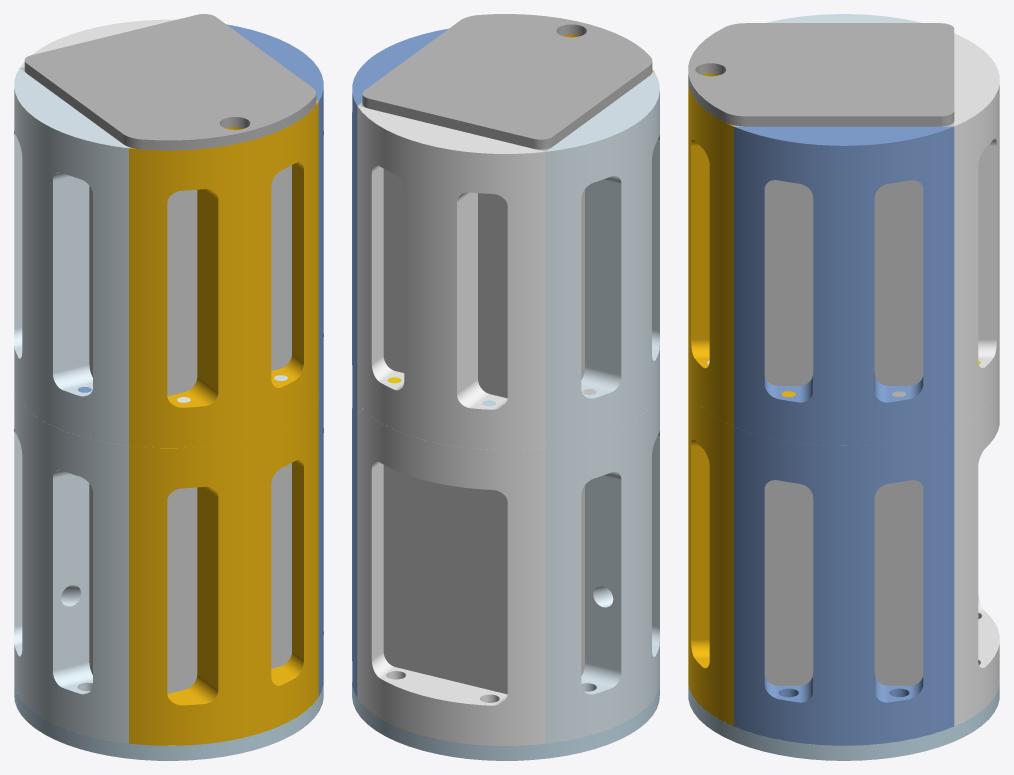
The model's file is No_Holes_Sabot.gltf.
3 views of the same model, side by side, from view 1: azimuth 30°, elevation 25°; view 2: azimuth 150°, elevation 25°; view 3: azimuth 270°, elevation 25° (orthographic).
Parts seen in each view (by area): view 1: Orange Leaf (Lower), Orange Leaf (Upper), Light Blue Leaf (Upper), Light Blue Leaf (Lower), Top, Block in middle, Base, Blue Leaf (Upper), Blue Leaf (Lower), Grey Leaf (Upper); view 2: Grey Leaf (Upper), Block in middle, Light Blue Leaf (Upper), Light Blue Leaf (Lower), Grey Leaf (Lower), Top, Base, Blue Leaf (Upper), Blue Leaf (Lower); view 3: Blue Leaf (Upper), Blue Leaf (Lower), Block in middle, Top, Grey Leaf (Upper), Orange Leaf (Upper), Orange Leaf (Lower), Grey Leaf (Lower), Base, Light Blue Leaf (Upper).
Boxes of the visible parts, bbox=[...] form: Orange Leaf (Lower): bbox=[129, 400, 318, 745]; Orange Leaf (Upper): bbox=[129, 102, 318, 447]; Light Blue Leaf (Upper): bbox=[14, 68, 128, 445]; Light Blue Leaf (Lower): bbox=[14, 386, 128, 743]; Top: bbox=[24, 14, 316, 150]; Block in middle: bbox=[20, 67, 317, 693]; Base: bbox=[14, 684, 323, 760]; Blue Leaf (Upper): bbox=[226, 24, 323, 398]; Blue Leaf (Lower): bbox=[318, 387, 323, 696]; Grey Leaf (Upper): bbox=[20, 19, 175, 67]; Grey Leaf (Upper): bbox=[357, 106, 545, 449]; Block in middle: bbox=[357, 71, 654, 694]; Light Blue Leaf (Upper): bbox=[546, 72, 659, 447]; Light Blue Leaf (Lower): bbox=[546, 387, 659, 743]; Grey Leaf (Lower): bbox=[357, 402, 545, 745]; Top: bbox=[362, 14, 652, 149]; Base: bbox=[352, 681, 659, 760]; Blue Leaf (Upper): bbox=[352, 28, 448, 401]; Blue Leaf (Lower): bbox=[352, 389, 357, 697]; Blue Leaf (Upper): bbox=[733, 126, 954, 445]; Blue Leaf (Lower): bbox=[733, 426, 954, 745]; Block in middle: bbox=[733, 121, 954, 685]; Top: bbox=[688, 23, 954, 126]; Grey Leaf (Upper): bbox=[954, 33, 999, 426]; Orange Leaf (Upper): bbox=[688, 73, 733, 426]; Orange Leaf (Lower): bbox=[688, 385, 733, 726]; Grey Leaf (Lower): bbox=[954, 385, 999, 726]; Base: bbox=[688, 685, 999, 760]; Light Blue Leaf (Upper): bbox=[766, 14, 921, 22].
Size of the model in its own units: 0.1414 by 0.3127 by 0.1412.
